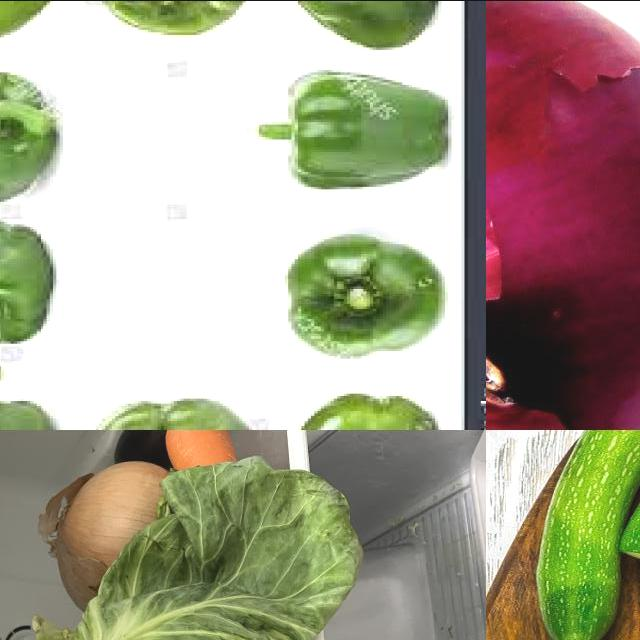bell_pepper: (247, 60, 457, 204), (271, 226, 453, 374), (1, 57, 71, 203), (1, 212, 71, 352), (82, 1, 278, 45), (276, 1, 451, 50), (277, 384, 450, 430), (88, 385, 263, 430)
cabbage: (1, 454, 366, 640)
carrot: (164, 430, 241, 473)
eggplant: (113, 430, 250, 475)
onion: (487, 1, 640, 430), (37, 459, 175, 618)
zucchini: (523, 430, 640, 640)
